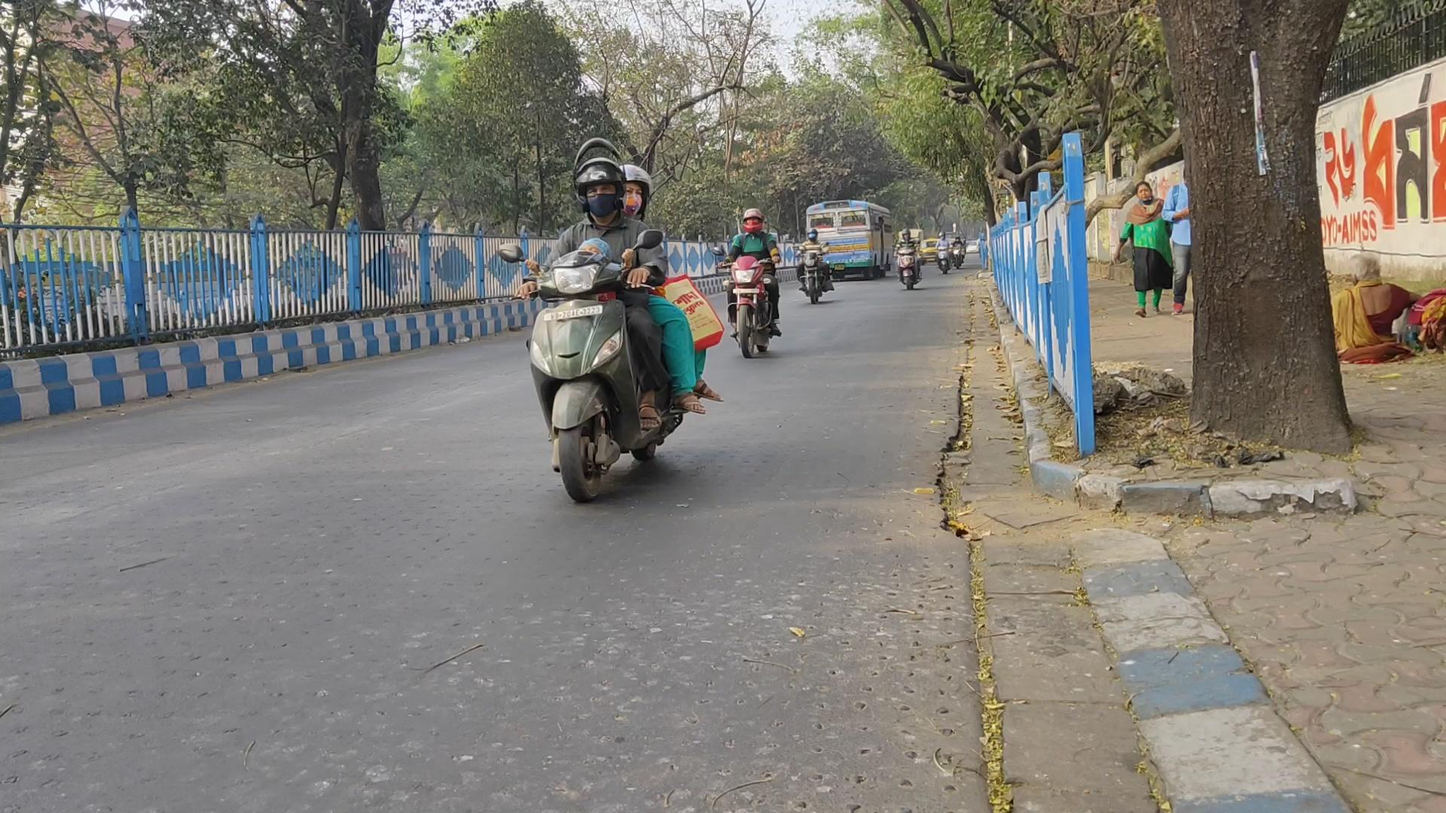Bus: (804, 198, 892, 281)
bike: (506, 135, 718, 501), (715, 208, 782, 358), (795, 227, 830, 305), (893, 229, 923, 290), (935, 230, 953, 275), (950, 235, 966, 269)
car: (920, 237, 945, 266)
